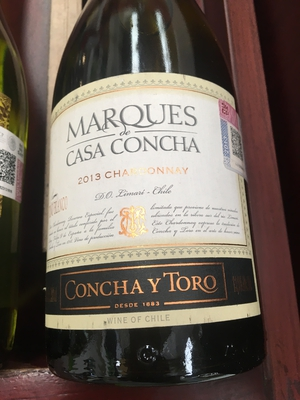marques de casa concha chardonnay: (34, 33, 268, 395)
